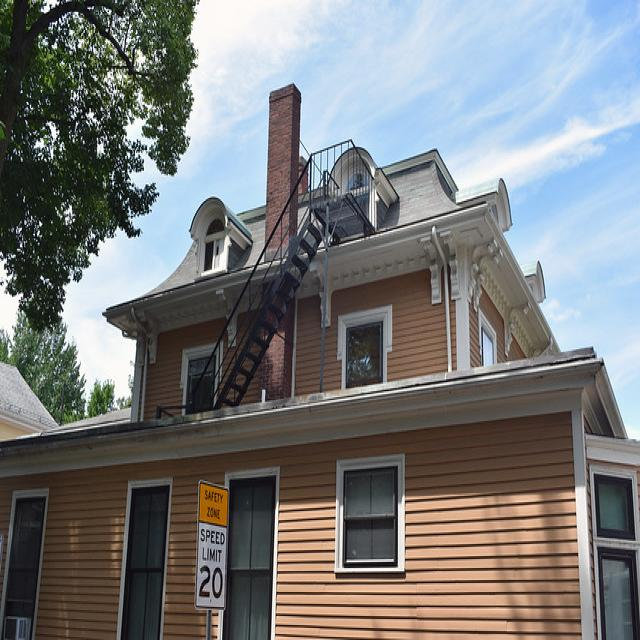building: (5, 69, 640, 640)
